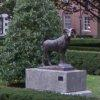Statue: (33, 24, 90, 68)
